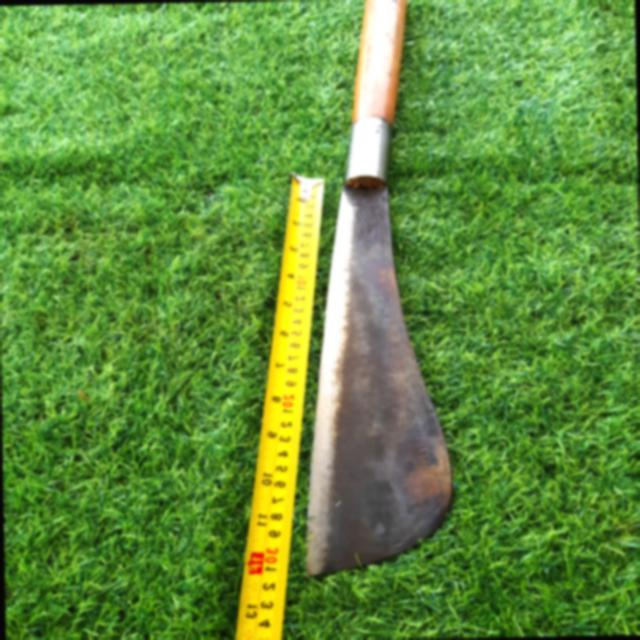eto: (295, 0, 469, 588)
